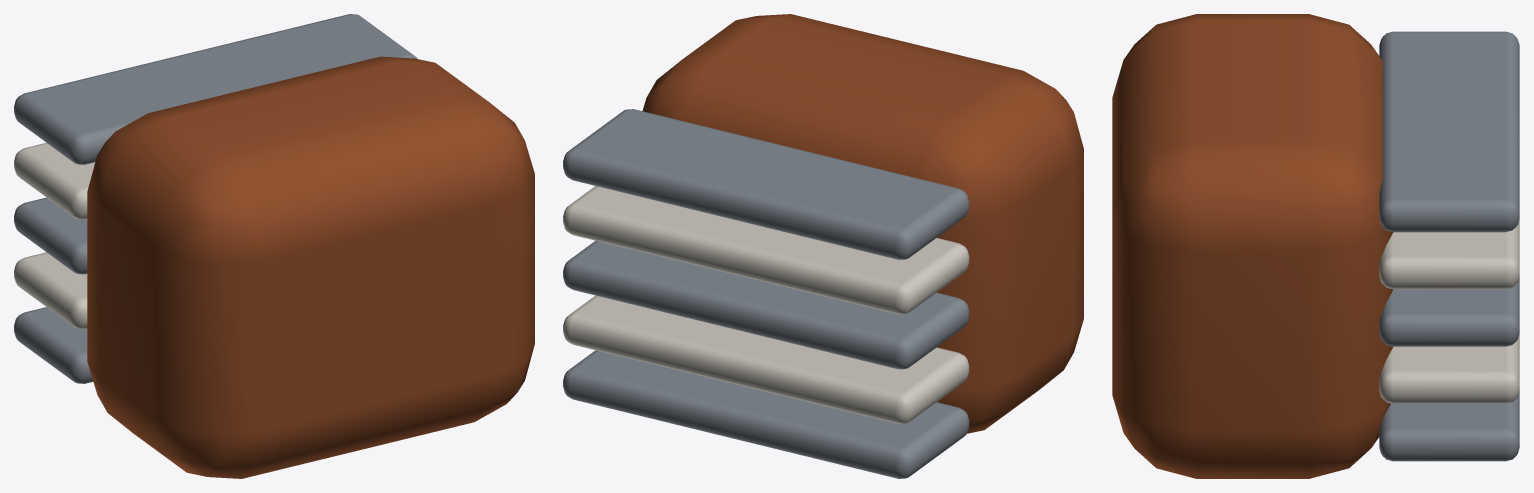
File: mo_governor.glb
3 renders of one model, left to right at view 1: azimuth 30°, elevation 25°; view 2: azimuth 150°, elevation 25°; view 3: azimuth 270°, elevation 25°, orthographic. The views are drawn at different scales.
Parts seen in each view (by area): view 1: mo_governor; view 2: mo_governor; view 3: mo_governor.
Part boxes in pixels (left/top/right/bottom): mo_governor: left=14, top=14, right=534, bottom=478; mo_governor: left=563, top=14, right=1083, bottom=478; mo_governor: left=1112, top=14, right=1519, bottom=478.
Bounding box in the file's own units: 0.1376 × 0.1118 × 0.1247.
